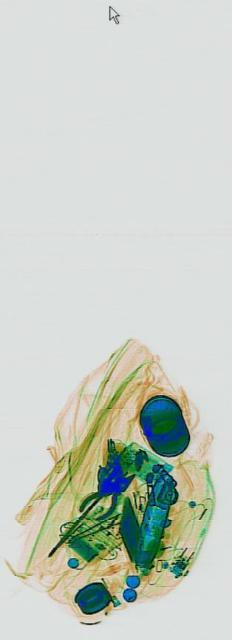Pliers: (77, 454, 135, 538)
